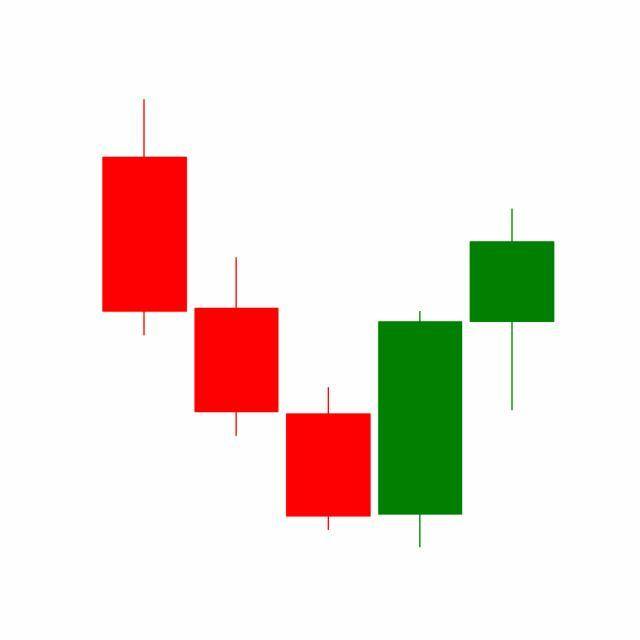Upside-Downside Gap Three Methods: (190, 253, 467, 548)
